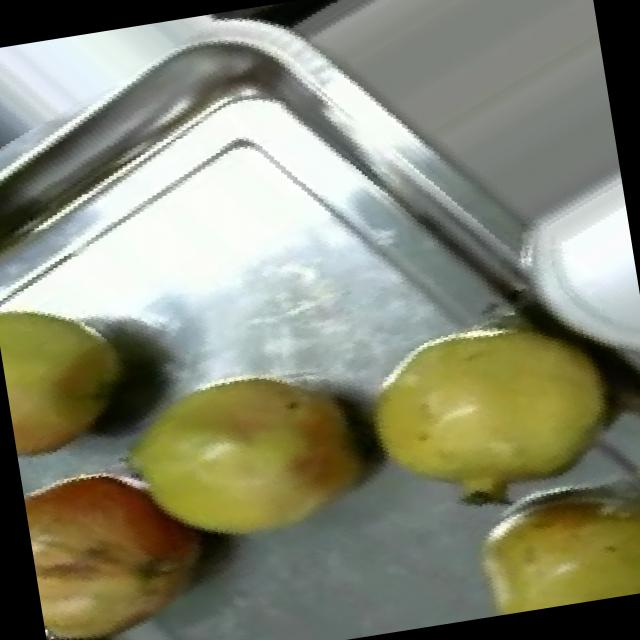fruit: (82, 324, 408, 601), (324, 283, 626, 537), (17, 422, 249, 640), (0, 259, 161, 482)
